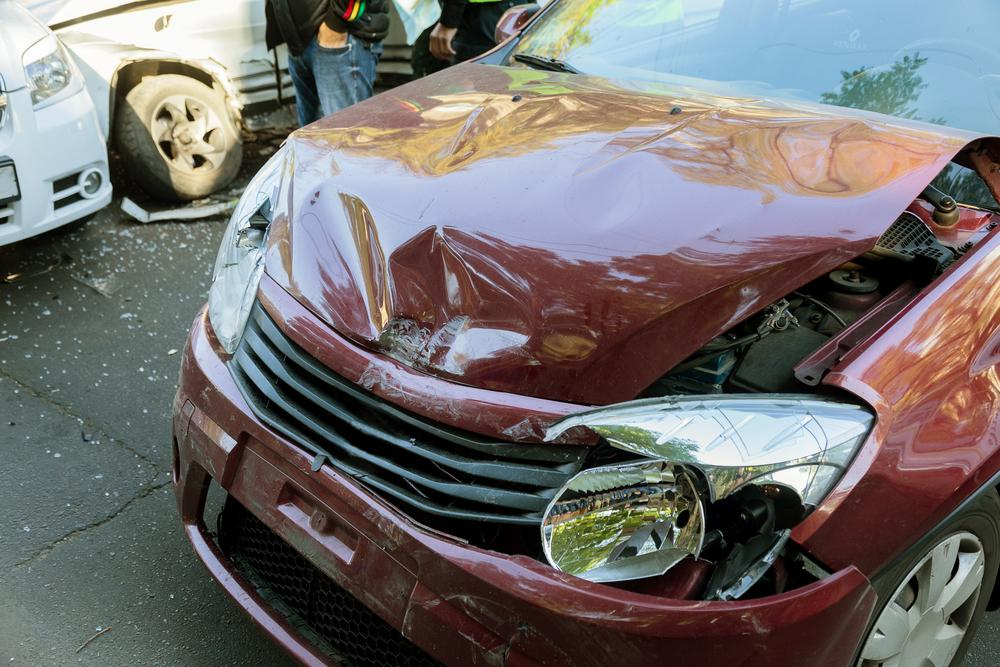dent: (279, 101, 929, 377)
lamp broken: (544, 450, 799, 594), (208, 150, 280, 351)
